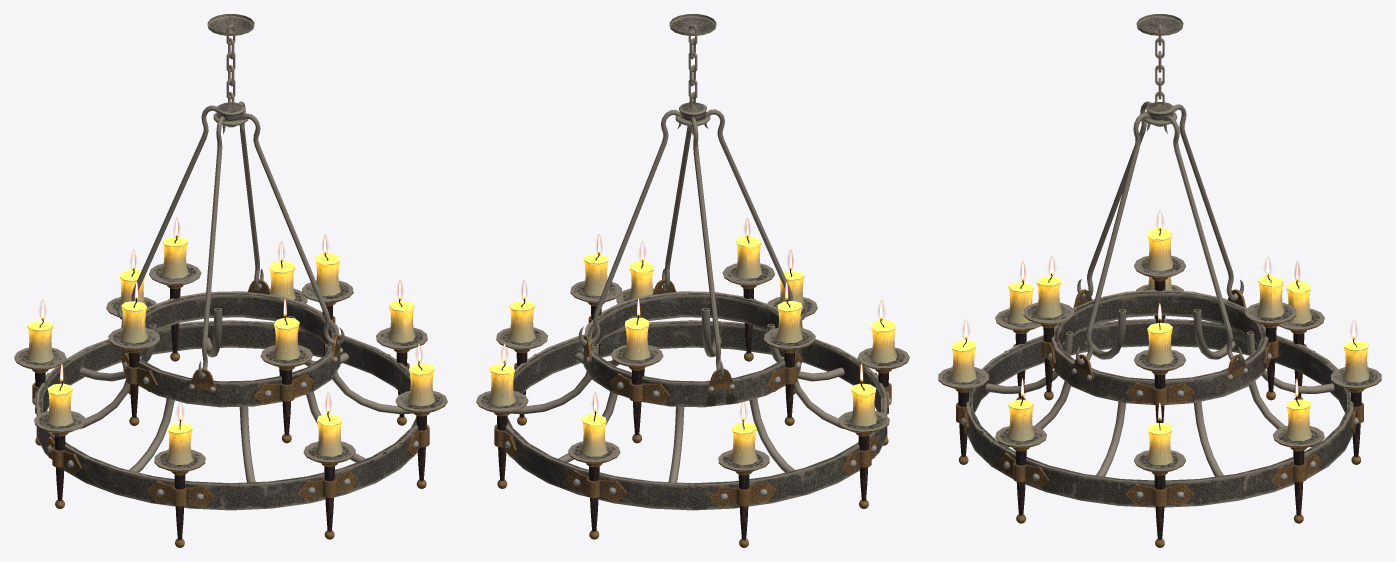
Rendered from medieval_chandelier3.glb.
The picture shows the model from 3 angles, left to right: view 1: azimuth 30°, elevation 25°; view 2: azimuth 150°, elevation 25°; view 3: azimuth 270°, elevation 25°; orthographic projection.
Visible parts, largest first — view 1: group42; view 2: group42; view 3: group42.
Boxes of the visible parts, x1,y1,x2,y2 form: group42: (14, 14, 447, 547); group42: (476, 14, 909, 547); group42: (938, 14, 1381, 547).
Bounding box in the file's own units: 38.71 × 42.47 × 38.71.
Materials: 2 (2 with a texture image).
